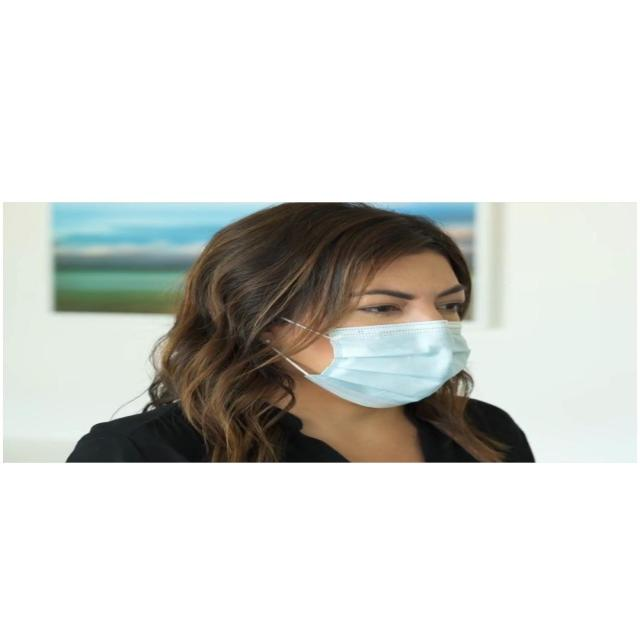Mask: (264, 234, 484, 411)
